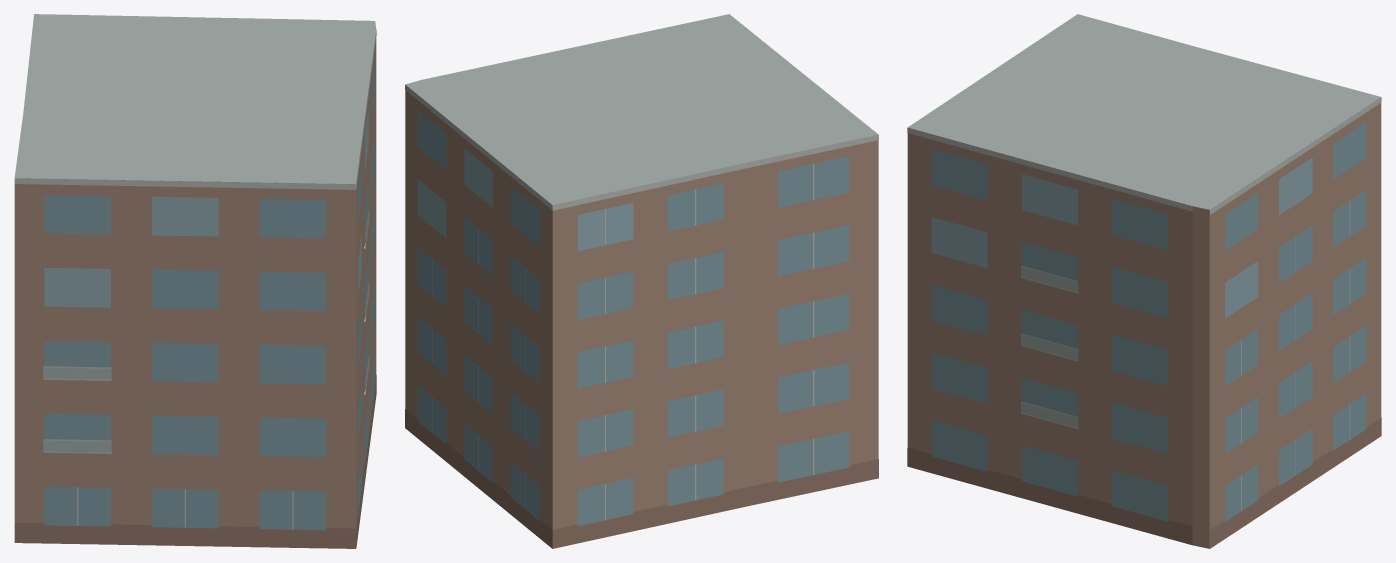
File: survey-upis-32780075.glb
3 views of the same model, side by side, from view 1: azimuth 30°, elevation 25°; view 2: azimuth 150°, elevation 25°; view 3: azimuth 270°, elevation 25° (orthographic). The views are drawn at different scales.
Visible parts, largest first — view 1: survey-upis-32780075.tmp; view 2: survey-upis-32780075.tmp; view 3: survey-upis-32780075.tmp.
Part boxes in pixels (<box>): survey-upis-32780075.tmp: <box>14,14,376,548</box>; survey-upis-32780075.tmp: <box>405,14,878,548</box>; survey-upis-32780075.tmp: <box>907,14,1381,548</box>.
Size of the model in its own units: 18.9 by 15.25 by 19.32.
